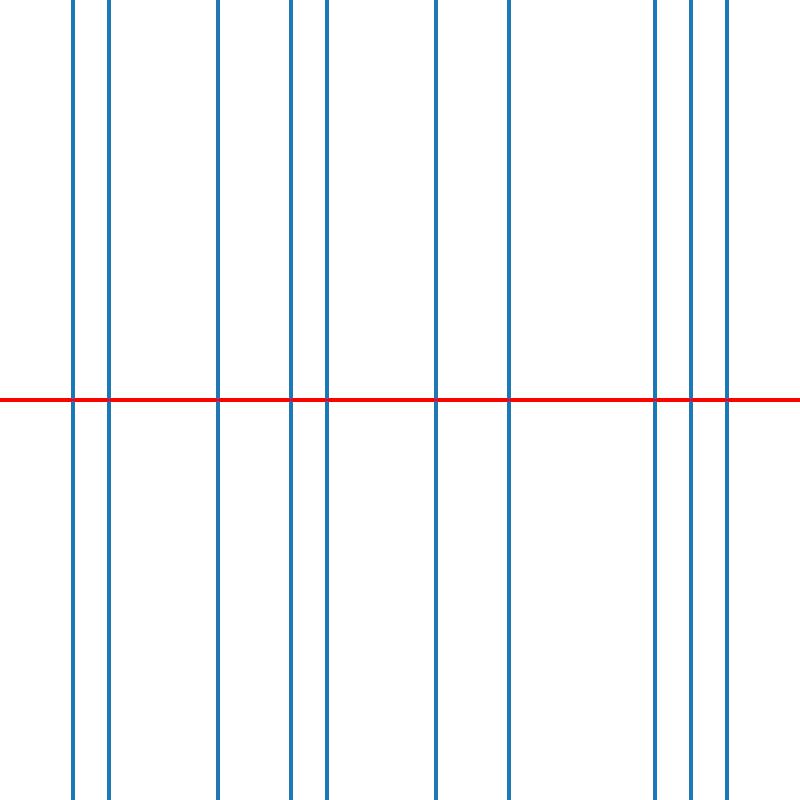root: (432, 396, 440, 404), (650, 396, 658, 404), (287, 396, 294, 404), (505, 396, 512, 404), (105, 396, 112, 404), (687, 396, 694, 404), (723, 396, 730, 404), (323, 396, 330, 404), (214, 396, 221, 404), (69, 396, 76, 404)
